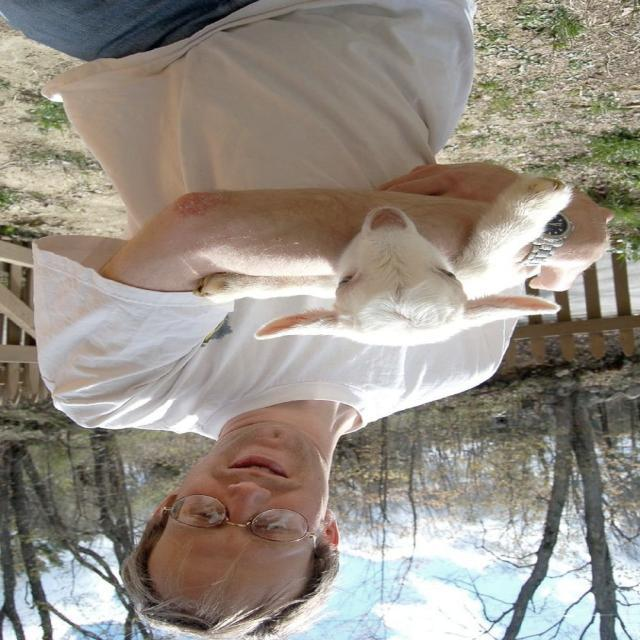Goat: (192, 174, 575, 348)
